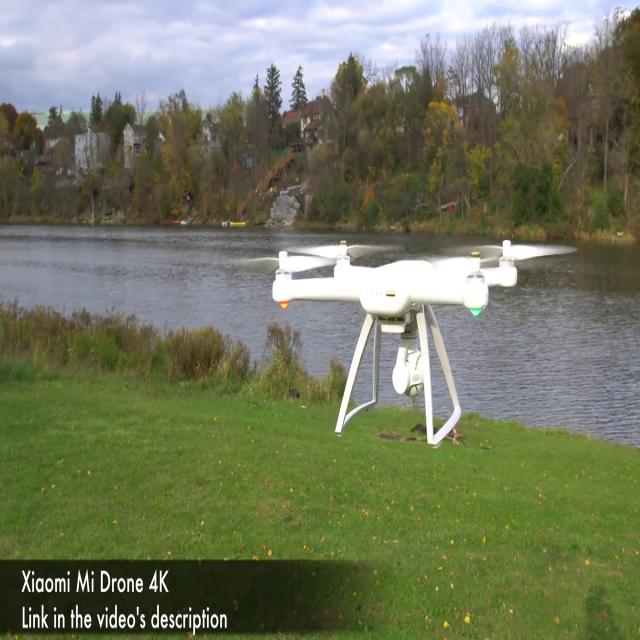drone: (228, 220, 578, 346)
